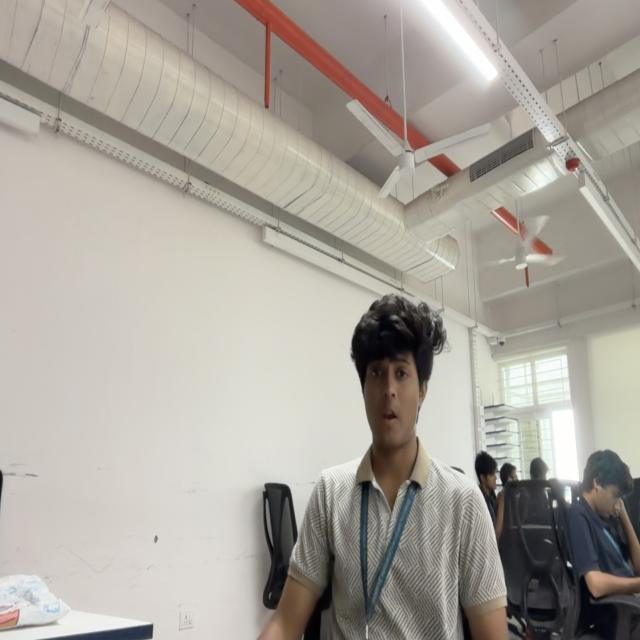kshitij: (350, 292, 448, 453)
